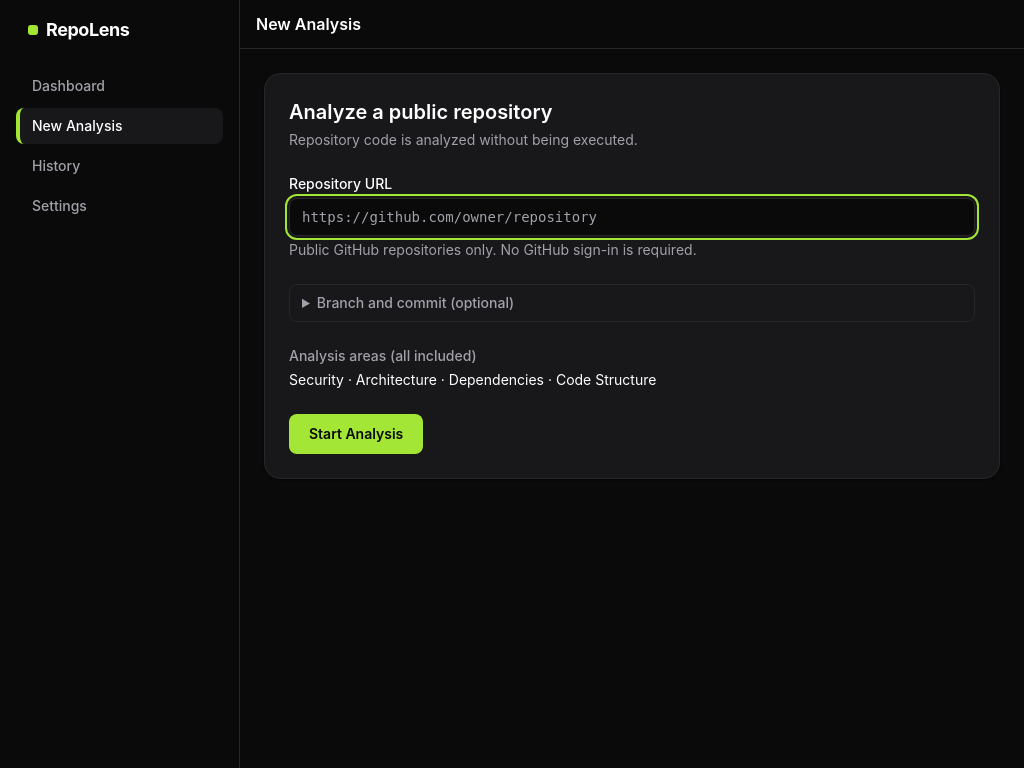
Scenario: New Analysis form › shows request-level failures in an alert and preserves input
The image size is (1024, 768).
Step 1. Type "https://github.com/acme/web" into the field labelled "Repository URL" → [632, 217], box [289,198,975,236]
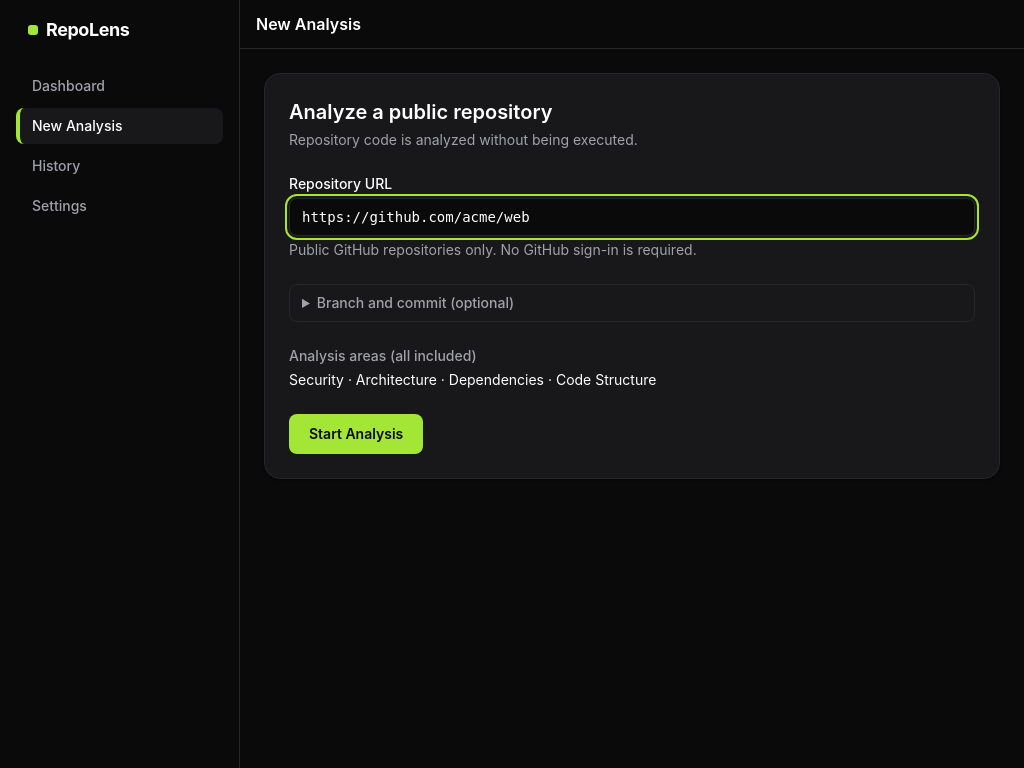
Step 2. Click the button "Start Analysis" → [356, 434], box [289,414,423,454]
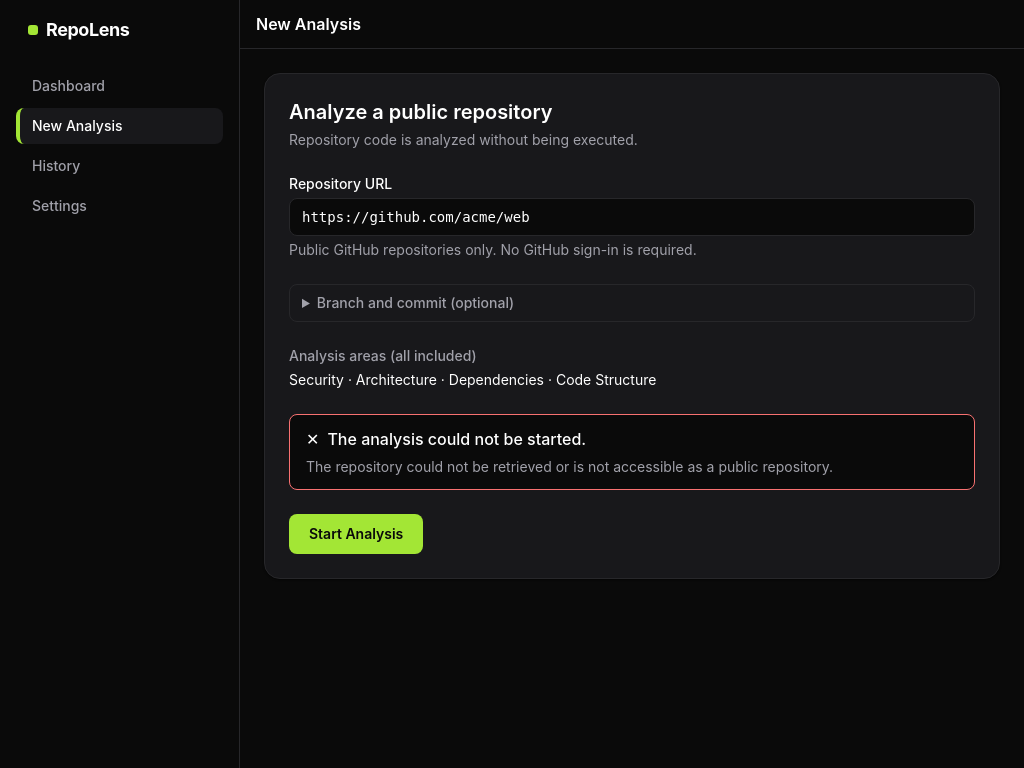
Now the message shows "not accessible", box [306,458,833,475]
